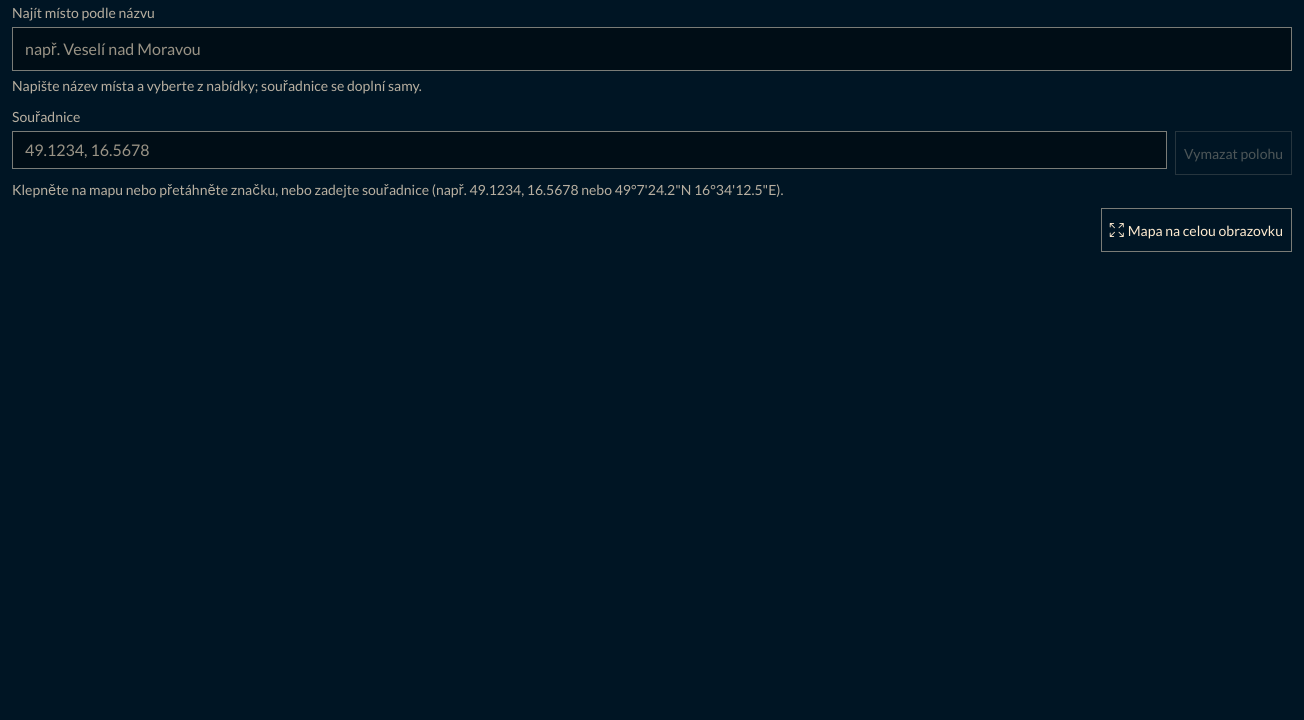
Test case: LocationPicker ways in › reports an unrecognised coordinate and shows no pin
Type "někde u lesa" into the field labelled "Souřadnice" at (590, 150), box x1=12 y1=131 x2=1167 y2=169
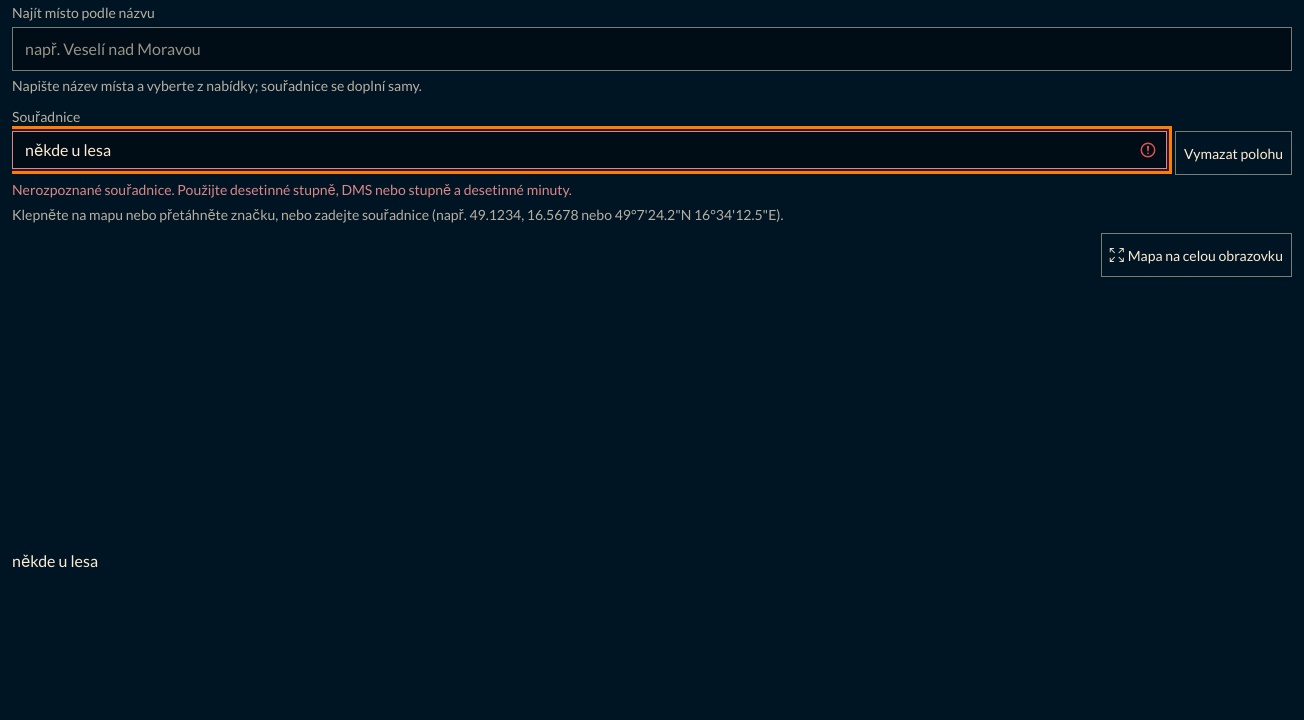
Result: the text "Nerozpoznané souřadnice" is shown at x1=12 y1=181 x2=572 y2=198
